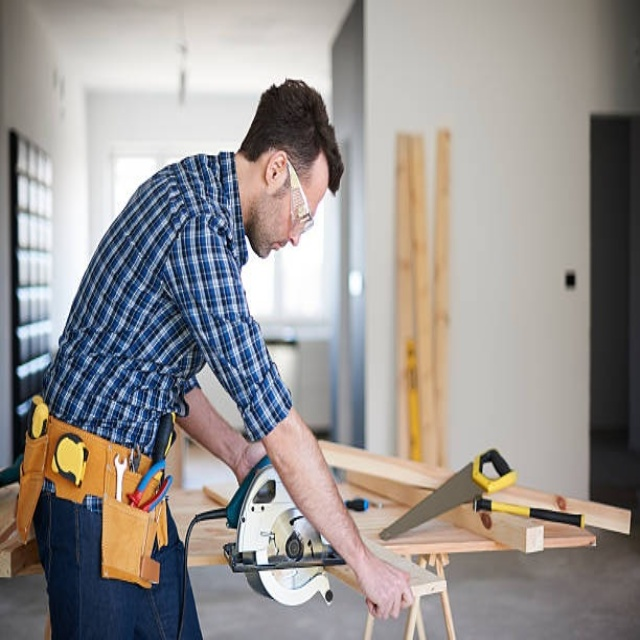Gafas: (286, 155, 314, 239)
Sin_guantes: (355, 554, 415, 622)
Sin_mascara: (260, 221, 292, 257)
